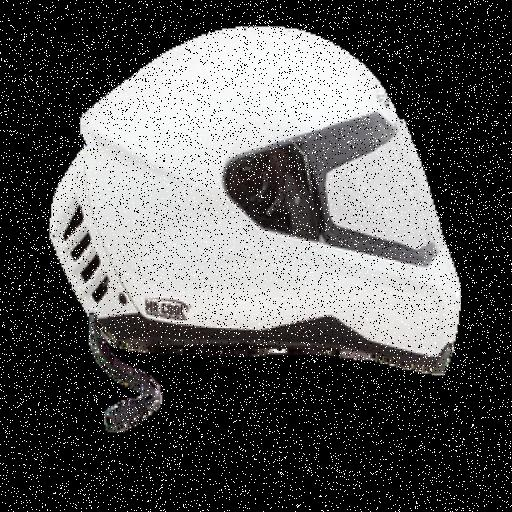Helmet: (26, 29, 482, 436)
